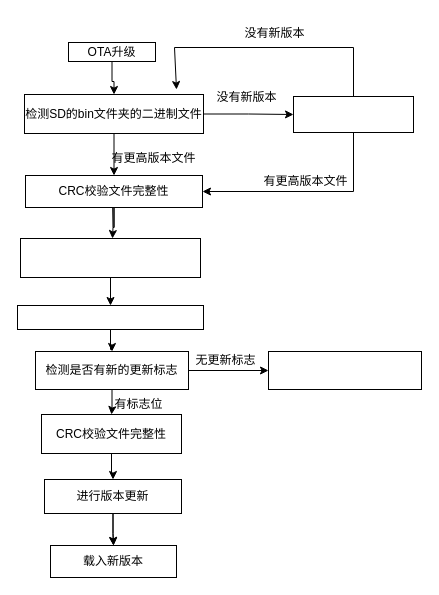
Image size: 439x595. Some labels were removed from this diagram. Here are the shapes that lost their labels. From the top down, the box of each, then its label:
(292, 96, 414, 132): 发送获取云端版本的命令
(20, 238, 200, 278): 设置新的更新标志
(16, 304, 204, 330): 复位,进入升级状态
(268, 350, 422, 390): 载入flash的旧版本
